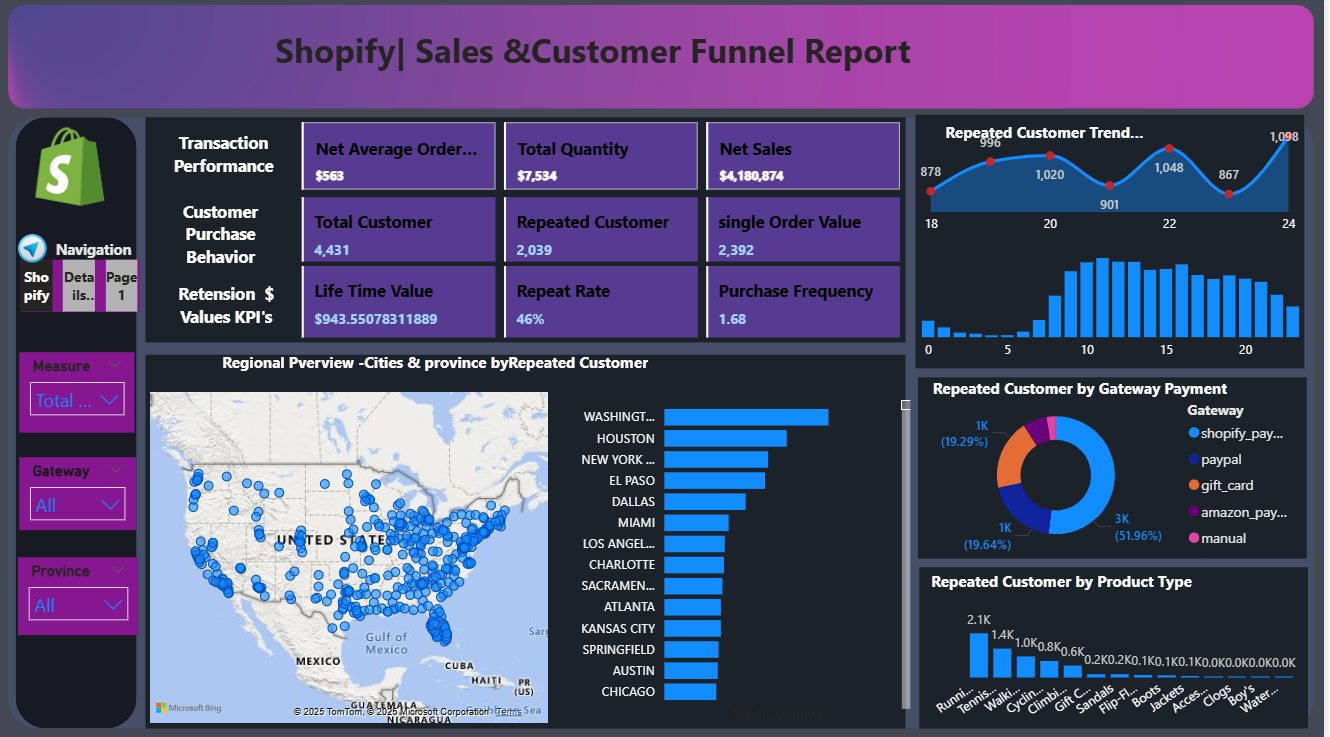

The page's visual inventory and layout, read from the dashboard file:
{"tool":"powerbi","page":{"name":"Shopify","canvas":[1280,720],"ordinal":0},"visuals":[{"type":"shape","box":[16.9,117,117,589.9],"z":0},{"type":"textbox","box":[131.5,25.3,885.5,76],"z":1000},{"type":"shape","box":[142.3,117.2,733.7,217.3],"z":2000},{"type":"cardVisual","fields":{"Data":["shopify_sales.Net Average Order Values","shopify_sales.Total Quantity","shopify_sales.Net Sales"]},"box":[288.5,117.2,587.4,75.1],"z":3000},{"type":"textbox","box":[152,125.5,131.5,57.9],"z":4000},{"type":"cardVisual","fields":{"Data":["shopify_sales.Total Customer","shopify_sales.Repeated Customer","shopify_sales.single Order Value"]},"box":[288.5,189.7,587.4,72.4],"z":5000},{"type":"textbox","box":[150.8,191.8,127.9,76],"z":6000},{"type":"cardVisual","fields":{"Data":["shopify_sales.Life Time Value","shopify_sales.Repeat Rate","shopify_sales.Purchase Frequency"]},"box":[288.5,255.5,587.4,79],"z":7000},{"type":"textbox","box":[152,271.4,136.3,62.7],"z":8000},{"type":"shape","box":[142.4,346.2,733.5,360.7],"z":9000},{"type":"slicer","fields":{"Values":["Select Measure.Select Measure"]},"box":[20,343.8,111.3,77.5],"z":10000},{"type":"map","fields":{"Y":["shopify_sales.Total Customer"],"Category":["shopify_sales.location"]},"box":[142.4,377.6,393.3,329.4],"z":11000},{"type":"clusteredBarChart","fields":{"Y":["shopify_sales.Total Customer"],"Category":["shopify_sales.CITY"]},"box":[545.3,377.6,340.2,329.4],"z":12000},{"type":"cardVisual","fields":{"Data":["shopify_sales.Map Title"]},"box":[55.5,304,733.5,63.9],"z":13000},{"type":"shape","box":[885.5,114.6,375.2,244.9],"z":14000},{"type":"areaChart","fields":{"Y":["shopify_sales.Total Customer"],"Category":["shopify_sales.Invoice Date.Variation.Date Hierarchy.Day"]},"box":[885.5,117,375.2,120.6],"z":15000},{"type":"columnChart","fields":{"Y":["shopify_sales.Total Customer"],"Category":["shopify_sales.Hour"]},"box":[886.7,230.4,375.2,129.1],"z":16000},{"type":"cardVisual","fields":{"Data":["shopify_sales.Trend Title"]},"box":[865,82,277.5,63.9],"z":17000},{"type":"shape","box":[887.9,368,375.2,174.9],"z":18000},{"type":"donutChart","fields":{"Y":["shopify_sales.Total Customer"],"Category":["shopify_sales.Gateway"]},"box":[889.1,382.4,374,160.5],"z":19000},{"type":"cardVisual","fields":{"Data":["shopify_sales.GateWay payment"]},"box":[878.3,329.4,333,63.9],"z":20000},{"type":"shape","box":[889.1,551.3,375.2,155.6],"z":21000},{"type":"columnChart","fields":{"Y":["shopify_sales.Total Customer"],"Category":["shopify_sales.Product Type"]},"box":[889.1,579.1,375.2,127.9],"z":22000},{"type":"cardVisual","fields":{"Data":["shopify_sales.Product title"]},"box":[865,515.2,323.3,63.9],"z":23000},{"type":"image","box":[19.3,114.6,100.1,100.1],"z":24000},{"type":"slicer","fields":{"Values":["shopify_sales.Gateway"]},"box":[20,445.1,112.5,70],"z":25000},{"type":"slicer","fields":{"Values":["shopify_sales.Billing Address Province"]},"box":[18.8,541.4,116.3,75],"z":26000},{"type":"textbox","box":[43.8,230,117.5,35],"z":28000},{"type":"image","box":[12.5,221.3,42.5,46.3],"z":29000},{"type":"shape","box":[1159.4,32.6,85.7,62.7],"z":29001},{"type":"pageNavigator","box":[20.5,265.4,114.6,49.5],"z":29002}]}

Visuals, with their boxes in screenshot pixels (x1, y1, x2, y2), scaled from the page's 1280x720 canvas onto the 1330x737 screenshot:
shape: {"x1": 18, "y1": 120, "x2": 139, "y2": 724}
textbox: {"x1": 137, "y1": 26, "x2": 1057, "y2": 104}
shape: {"x1": 148, "y1": 120, "x2": 910, "y2": 342}
cardVisual - shopify_sales.Net Average Order Values x shopify_sales.Total Quantity: {"x1": 300, "y1": 120, "x2": 910, "y2": 197}
textbox: {"x1": 158, "y1": 128, "x2": 295, "y2": 188}
cardVisual - shopify_sales.Total Customer x shopify_sales.Repeated Customer: {"x1": 300, "y1": 194, "x2": 910, "y2": 268}
textbox: {"x1": 157, "y1": 196, "x2": 290, "y2": 274}
cardVisual - shopify_sales.Life Time Value x shopify_sales.Repeat Rate: {"x1": 300, "y1": 262, "x2": 910, "y2": 342}
textbox: {"x1": 158, "y1": 278, "x2": 300, "y2": 342}
shape: {"x1": 148, "y1": 354, "x2": 910, "y2": 724}
slicer - Select Measure.Select Measure: {"x1": 21, "y1": 352, "x2": 136, "y2": 431}
map - shopify_sales.Total Customer x shopify_sales.location: {"x1": 148, "y1": 387, "x2": 557, "y2": 724}
clusteredBarChart - shopify_sales.Total Customer x shopify_sales.CITY: {"x1": 567, "y1": 387, "x2": 920, "y2": 724}
cardVisual - shopify_sales.Map Title: {"x1": 58, "y1": 311, "x2": 820, "y2": 377}
shape: {"x1": 920, "y1": 117, "x2": 1310, "y2": 368}
areaChart - shopify_sales.Total Customer x shopify_sales.Invoice Date.Variation.Date Hierarchy.Day: {"x1": 920, "y1": 120, "x2": 1310, "y2": 243}
columnChart - shopify_sales.Total Customer x shopify_sales.Hour: {"x1": 921, "y1": 236, "x2": 1311, "y2": 368}
cardVisual - shopify_sales.Trend Title: {"x1": 899, "y1": 84, "x2": 1187, "y2": 149}
shape: {"x1": 923, "y1": 377, "x2": 1312, "y2": 556}
donutChart - shopify_sales.Total Customer x shopify_sales.Gateway: {"x1": 924, "y1": 391, "x2": 1312, "y2": 556}
cardVisual - shopify_sales.GateWay payment: {"x1": 913, "y1": 337, "x2": 1259, "y2": 403}
shape: {"x1": 924, "y1": 564, "x2": 1314, "y2": 724}
columnChart - shopify_sales.Total Customer x shopify_sales.Product Type: {"x1": 924, "y1": 593, "x2": 1314, "y2": 724}
cardVisual - shopify_sales.Product title: {"x1": 899, "y1": 527, "x2": 1235, "y2": 593}
image: {"x1": 20, "y1": 117, "x2": 124, "y2": 220}
slicer - shopify_sales.Gateway: {"x1": 21, "y1": 456, "x2": 138, "y2": 527}
slicer - shopify_sales.Billing Address Province: {"x1": 20, "y1": 554, "x2": 140, "y2": 631}
textbox: {"x1": 46, "y1": 235, "x2": 168, "y2": 271}
image: {"x1": 13, "y1": 227, "x2": 57, "y2": 274}
shape: {"x1": 1205, "y1": 33, "x2": 1294, "y2": 98}
pageNavigator: {"x1": 21, "y1": 272, "x2": 140, "y2": 322}
